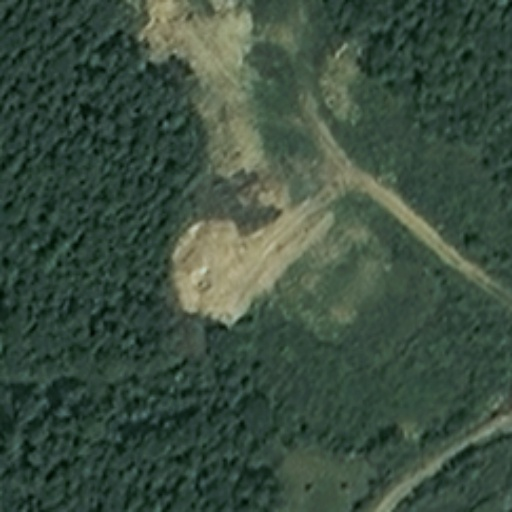landslide: (142, 3, 291, 211), (174, 219, 327, 326)
